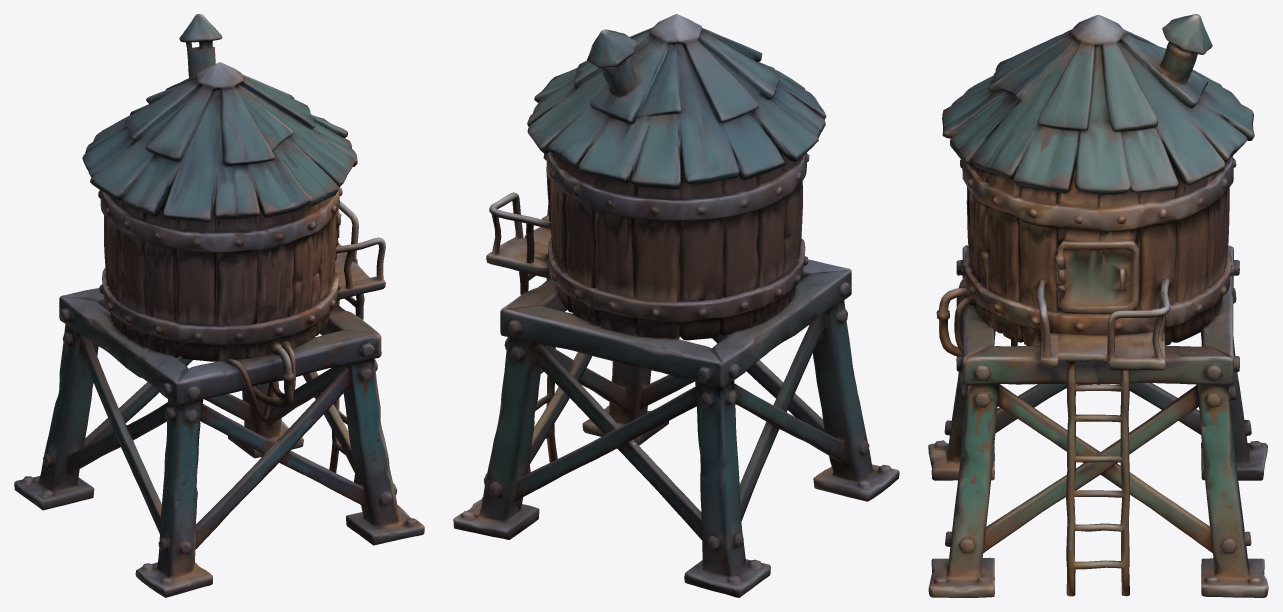
File: roof_water_tower.glb
3 renders of one model, left to right at view 1: azimuth 30°, elevation 25°; view 2: azimuth 150°, elevation 25°; view 3: azimuth 270°, elevation 25°, orthographic. The views are drawn at different scales.
Parts seen in each view (by area): view 1: tripo_part_0, tripo_part_1, tripo_part_4, tripo_part_2; view 2: tripo_part_0, tripo_part_1; view 3: tripo_part_0, tripo_part_1, tripo_part_4, tripo_part_2.
Part boxes in pixels (<box>): tripo_part_0: <box>14,187,424,597</box>; tripo_part_1: <box>82,14,357,222</box>; tripo_part_4: <box>252,342,293,408</box>; tripo_part_2: <box>253,341,295,421</box>; tripo_part_0: <box>453,150,899,597</box>; tripo_part_1: <box>527,14,826,189</box>; tripo_part_0: <box>928,156,1268,597</box>; tripo_part_1: <box>942,14,1254,194</box>; tripo_part_4: <box>936,286,969,356</box>; tripo_part_2: <box>954,294,1017,353</box>.
Size of the model in its own units: 0.6169 by 0.9793 by 0.577.
Materials: 1 (1 with a texture image).
